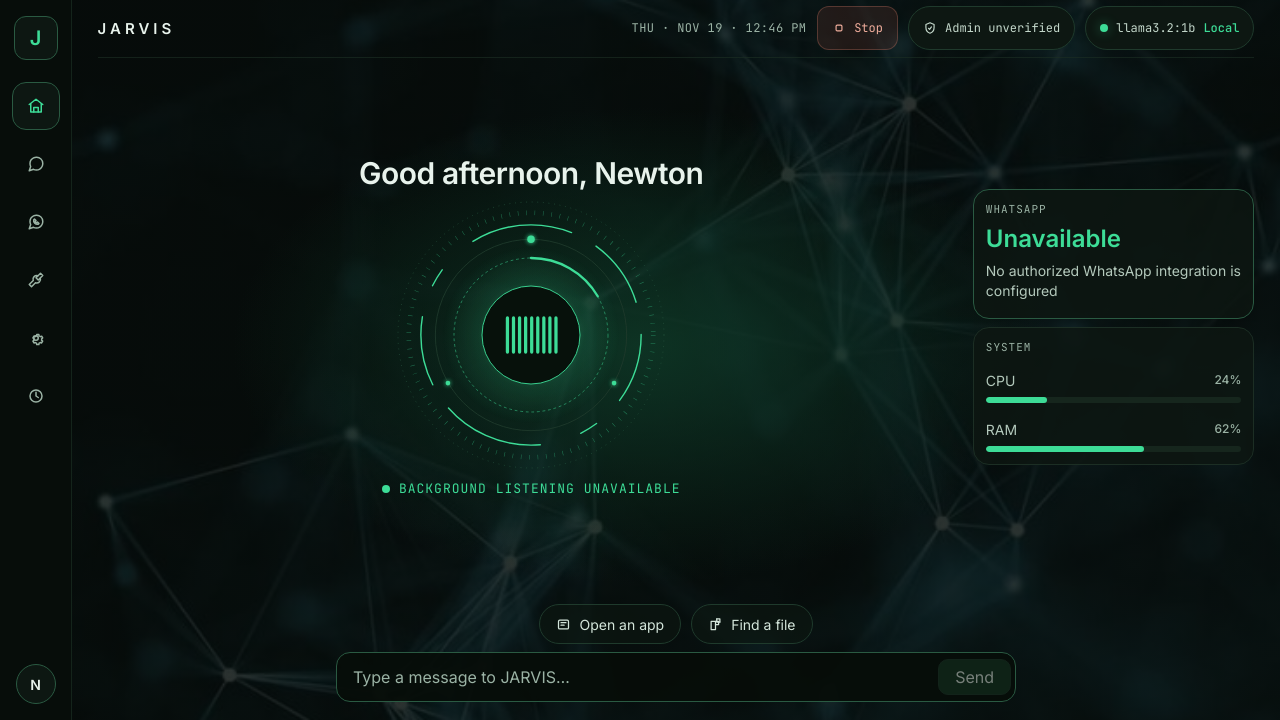
Test: JARVIS voice-first home › shows the live model and allows switching between local models
Click the button "llama3.2:1b Local" at (1170, 28), box left=1085, top=6, right=1254, bottom=50
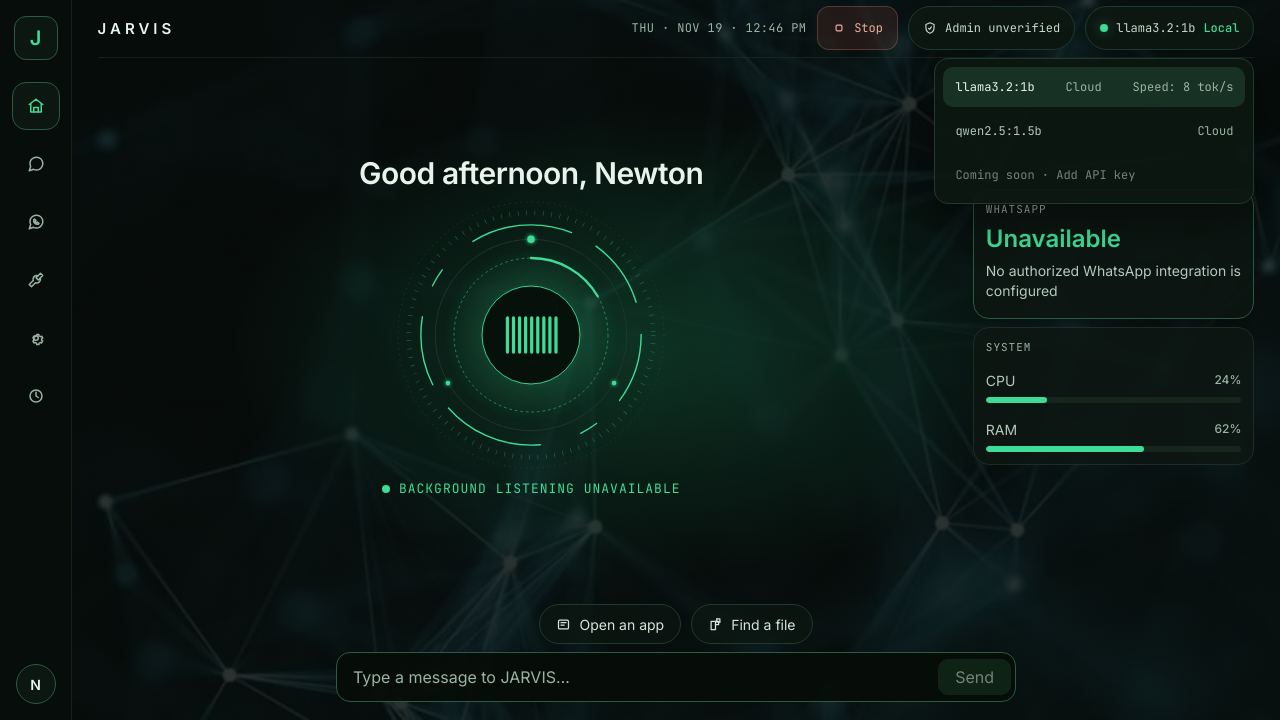
Click the button "qwen2.5:1.5b Cloud" at (999, 131), box left=943, top=111, right=1245, bottom=151
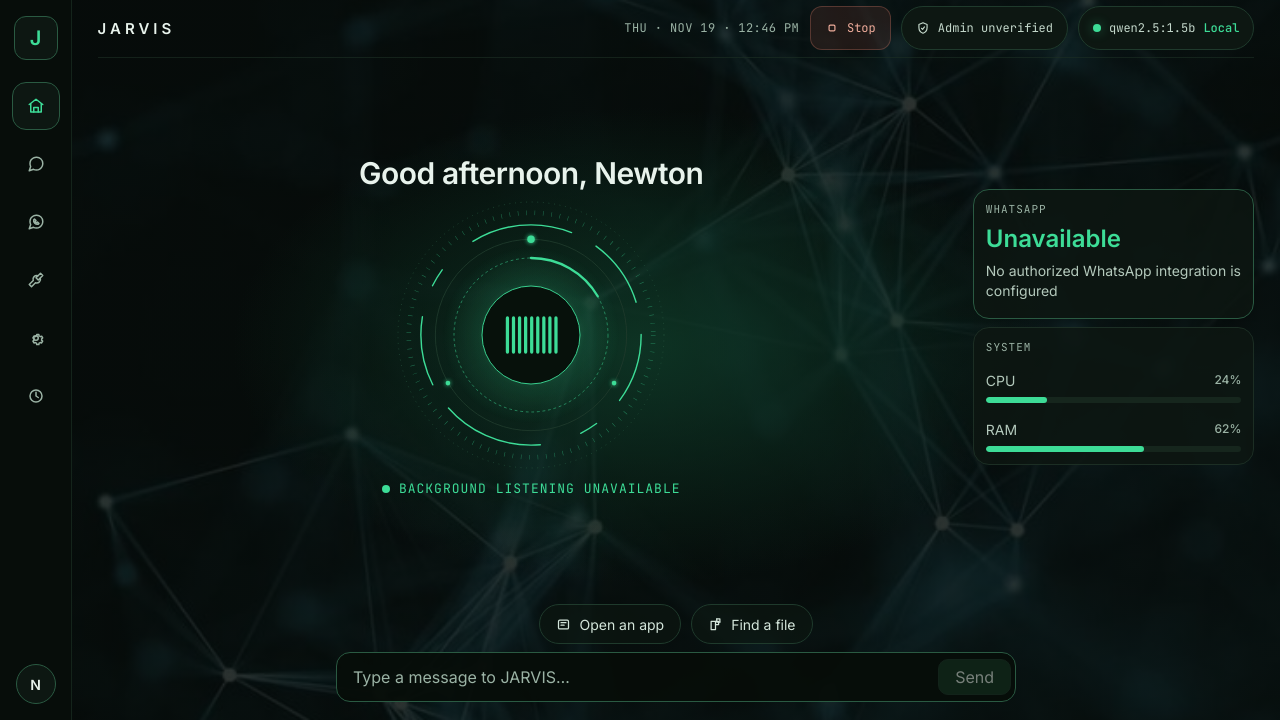
Expected: the button "qwen2.5:1.5b Local" is shown, left=1078, top=6, right=1254, bottom=50
